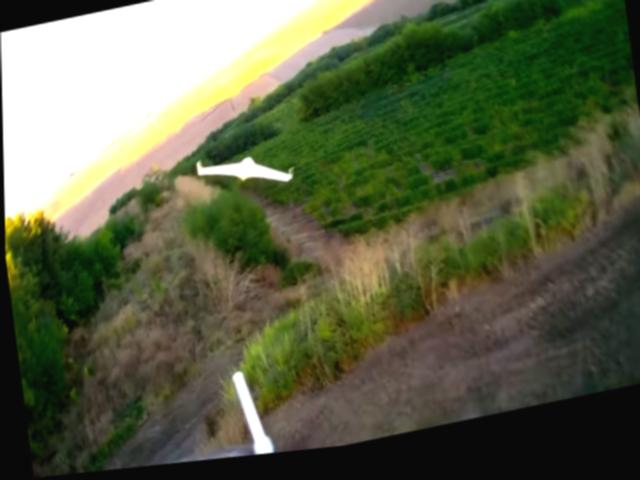plane: (195, 145, 293, 205)
